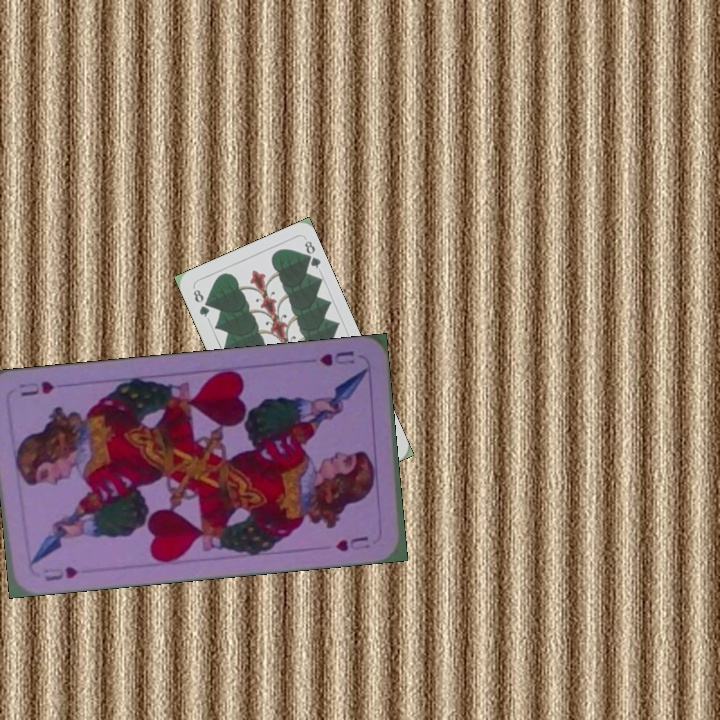G8: (189, 283, 212, 320)
HU: (315, 346, 358, 369), (39, 562, 81, 584)
